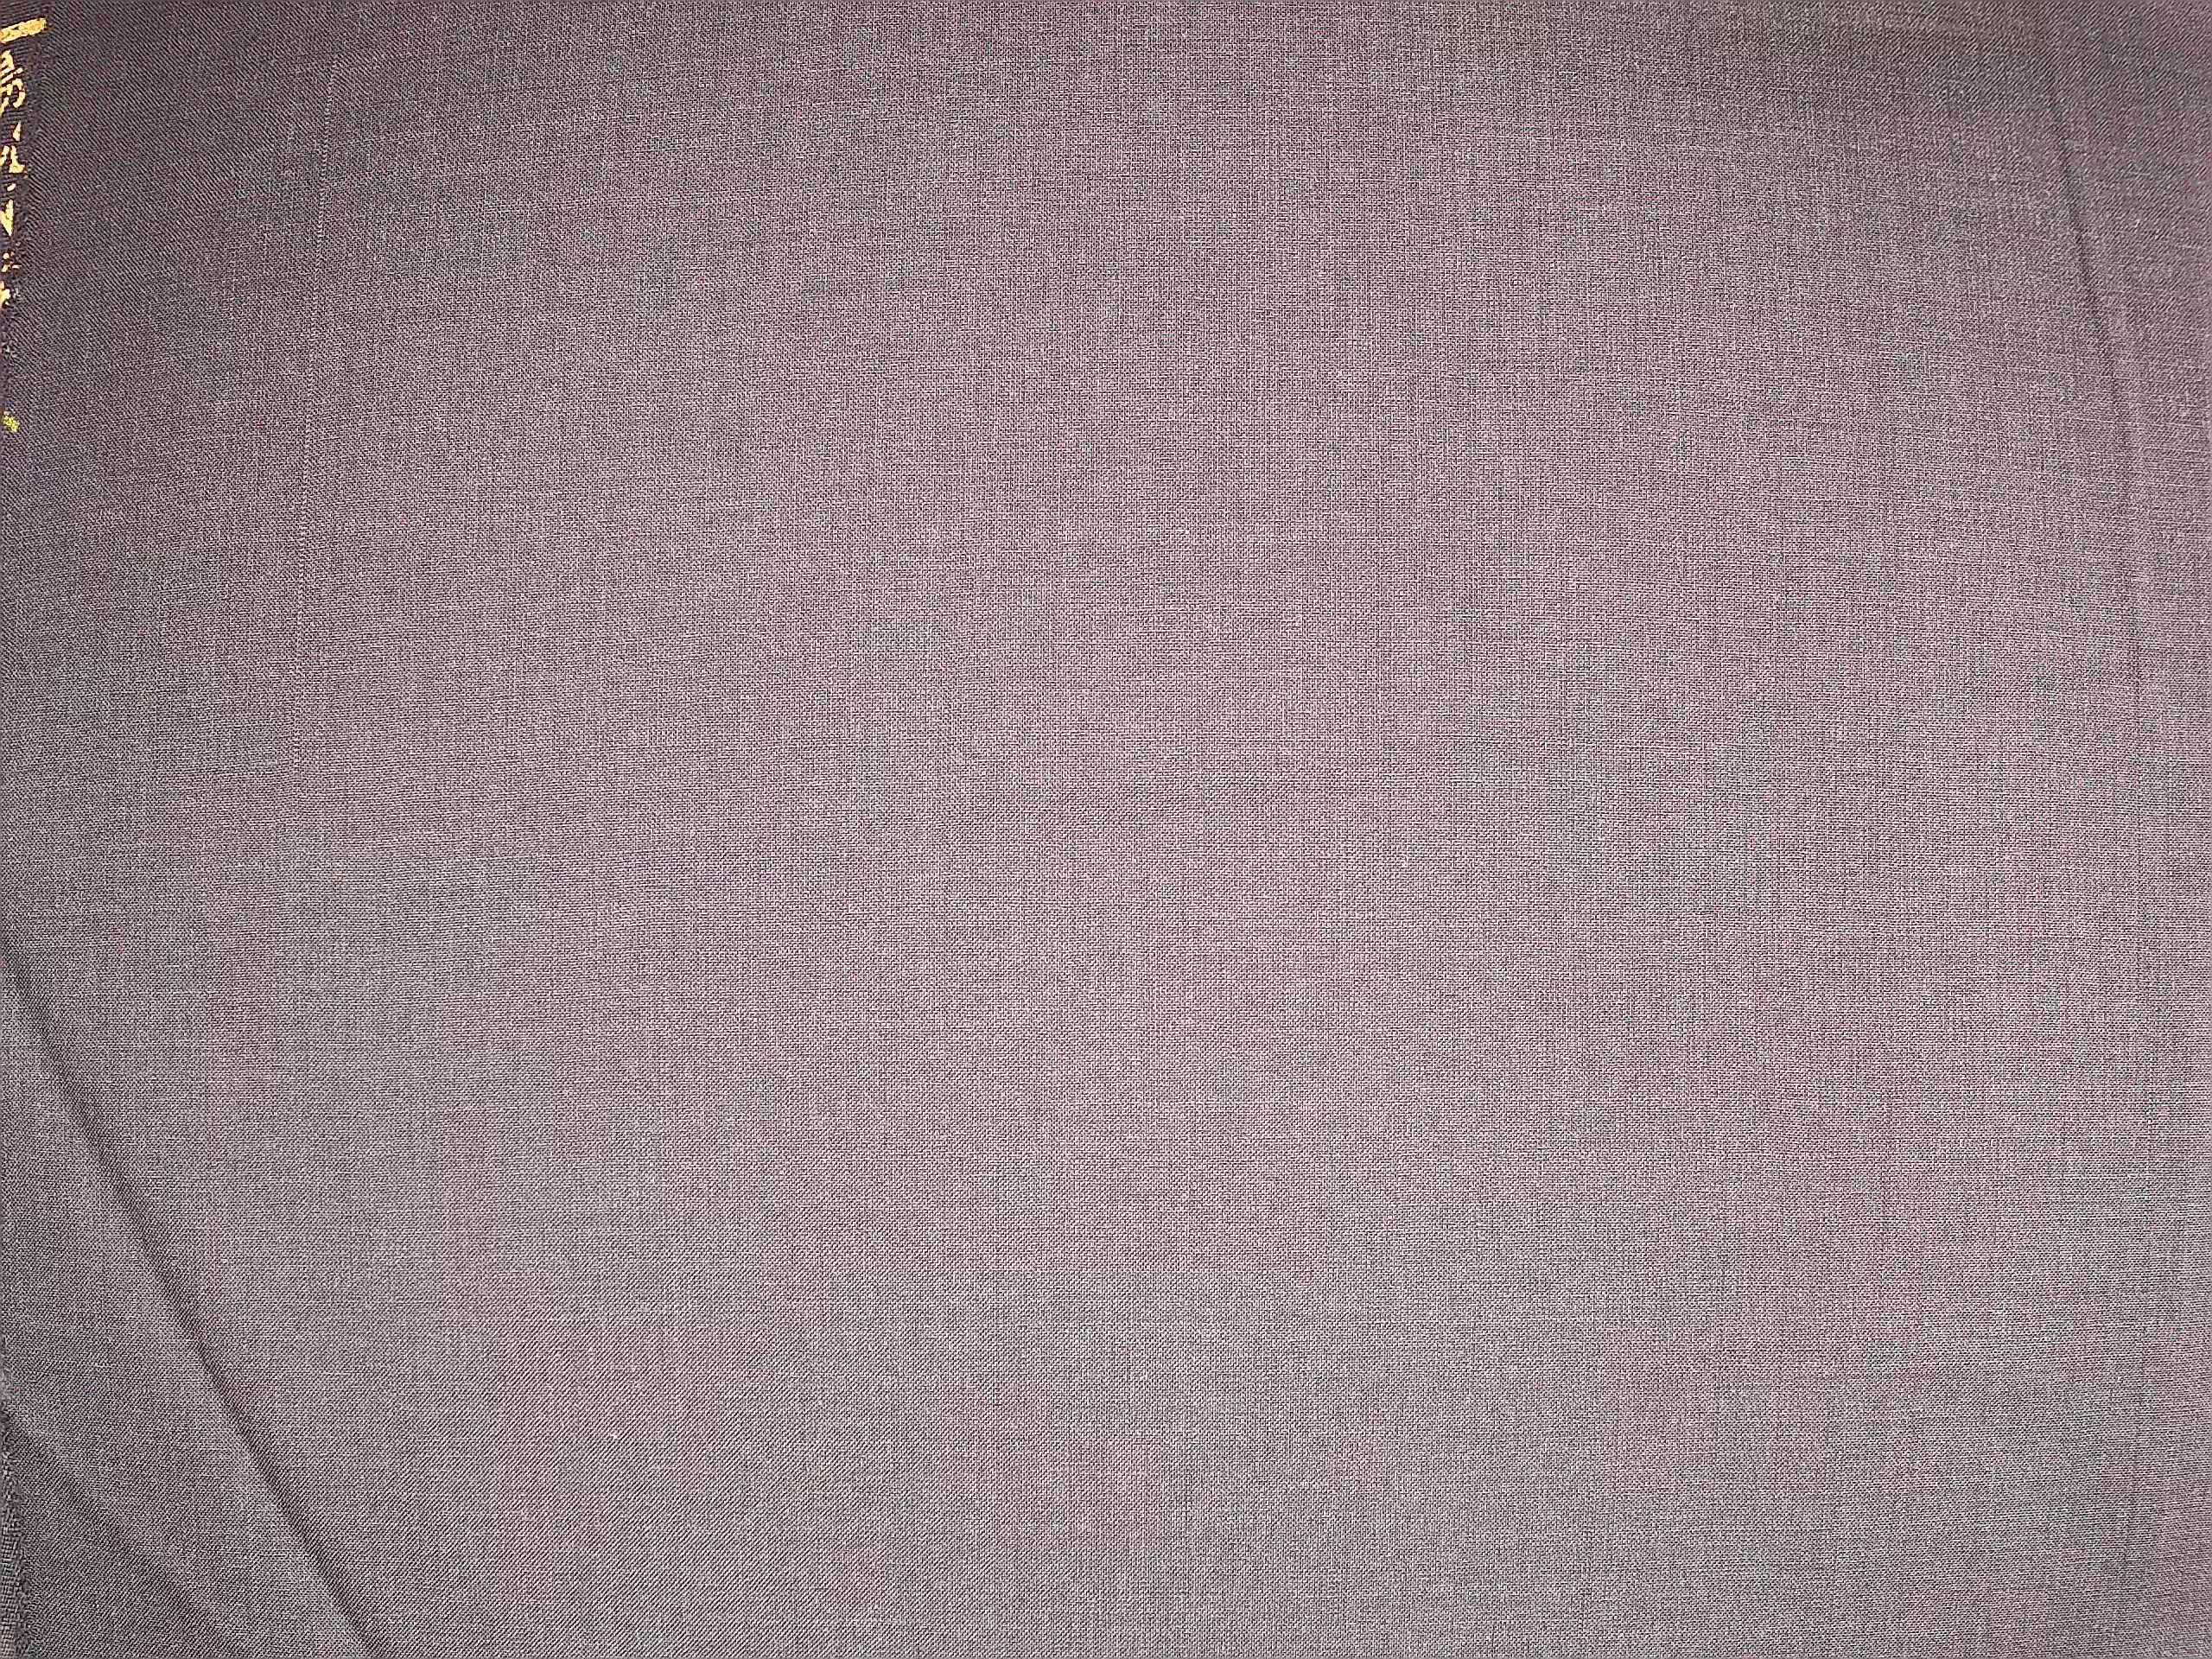hanging-warp: (287, 17, 354, 791)
